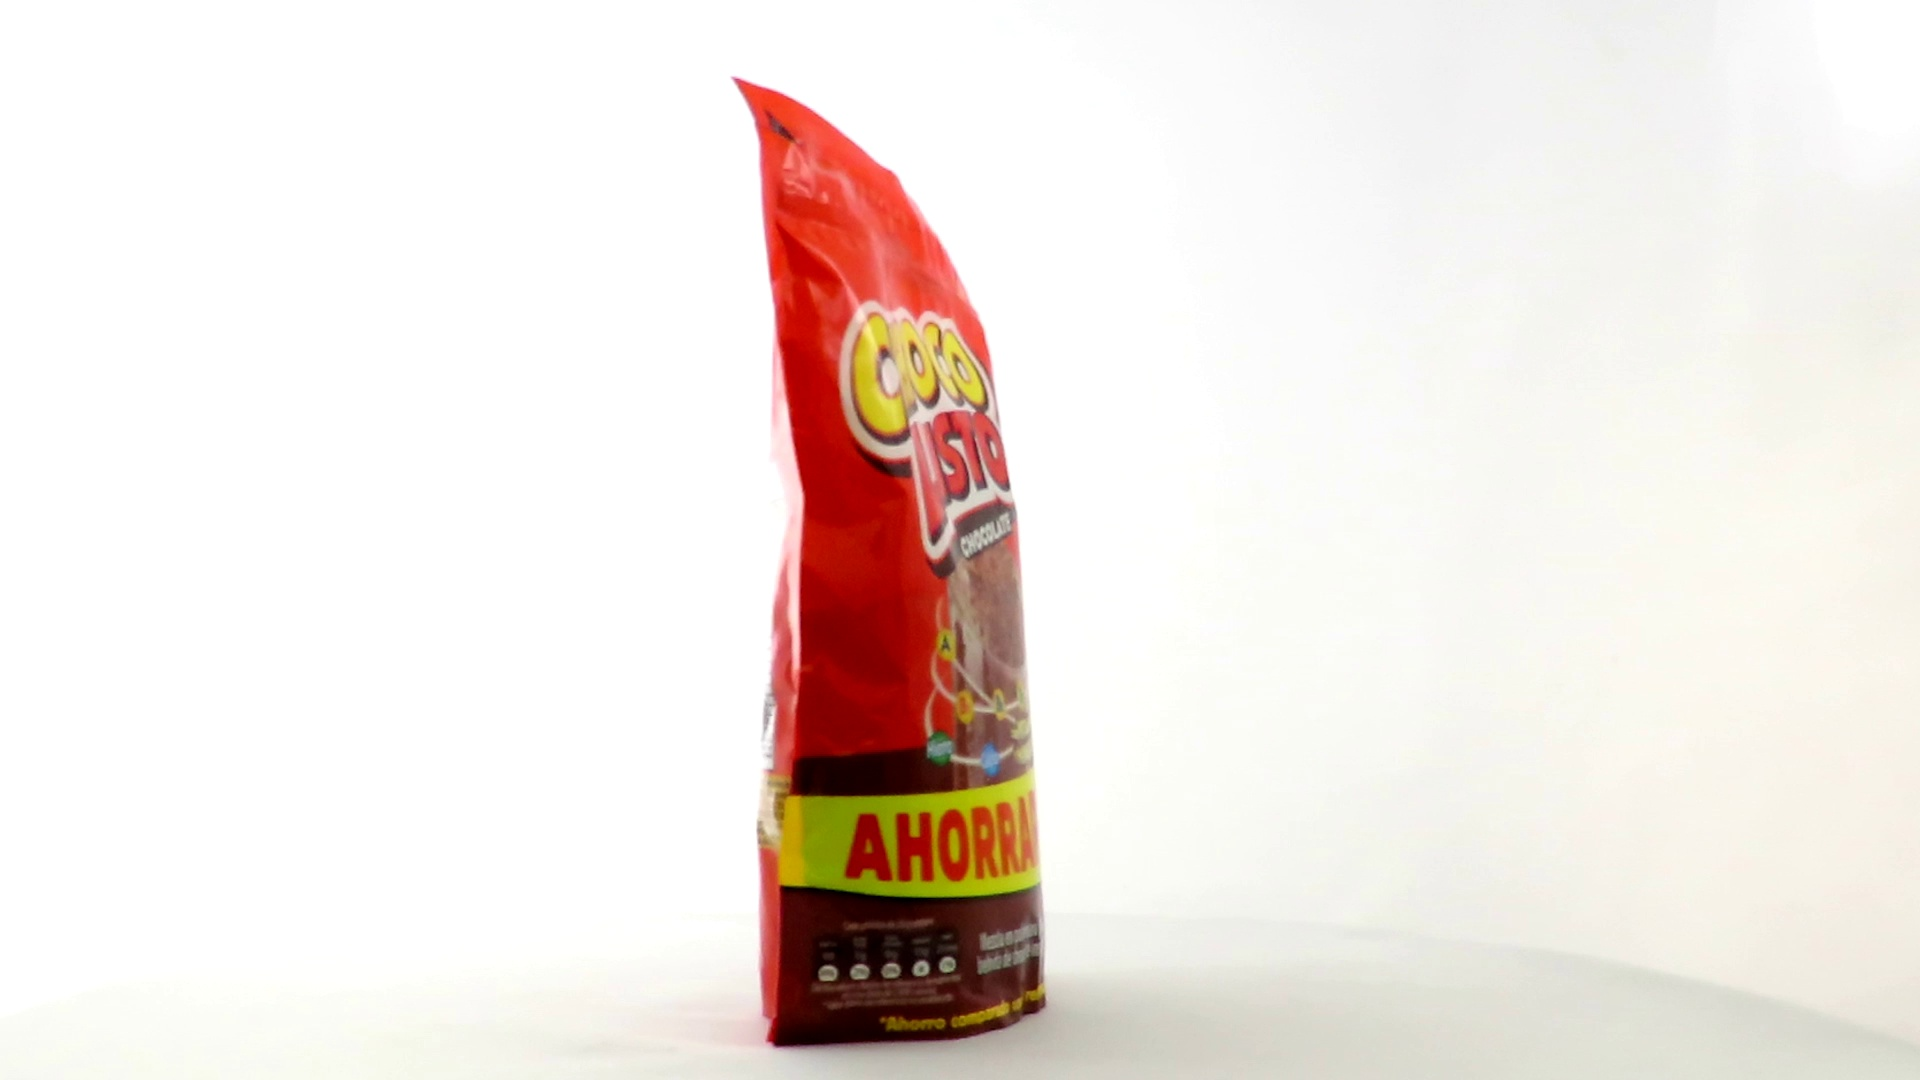COL0170103DYP36000: (727, 71, 1052, 1054)
